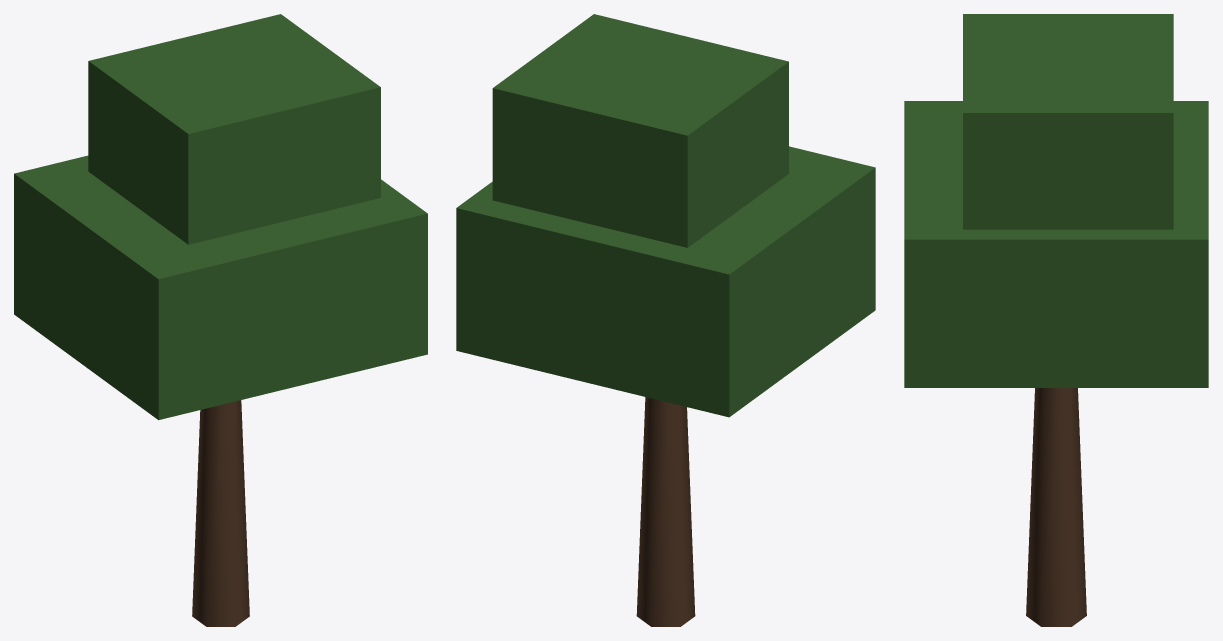
Rendered from SM_P1_Tree_Small_A.obj.
The picture shows the model from 3 angles, left to right: view 1: azimuth 30°, elevation 25°; view 2: azimuth 150°, elevation 25°; view 3: azimuth 270°, elevation 25°; orthographic projection. The views are drawn at different scales.
Parts seen in each view (by area): view 1: canopy_low, canopy_top, trunk; view 2: canopy_low, canopy_top, trunk; view 3: canopy_low, canopy_top, trunk.
Boxes of the visible parts, box(x1,y1,x2,y2) form: canopy_low: box(14, 155, 427, 420); canopy_top: box(88, 14, 380, 244); trunk: box(192, 400, 249, 626); canopy_low: box(456, 146, 875, 417); canopy_top: box(492, 14, 788, 247); trunk: box(636, 397, 695, 626); canopy_low: box(904, 101, 1208, 387); canopy_top: box(963, 14, 1173, 229); trunk: box(1026, 388, 1086, 626).
Bounding box in the file's own units: 1.4 × 2.65 × 1.3.
